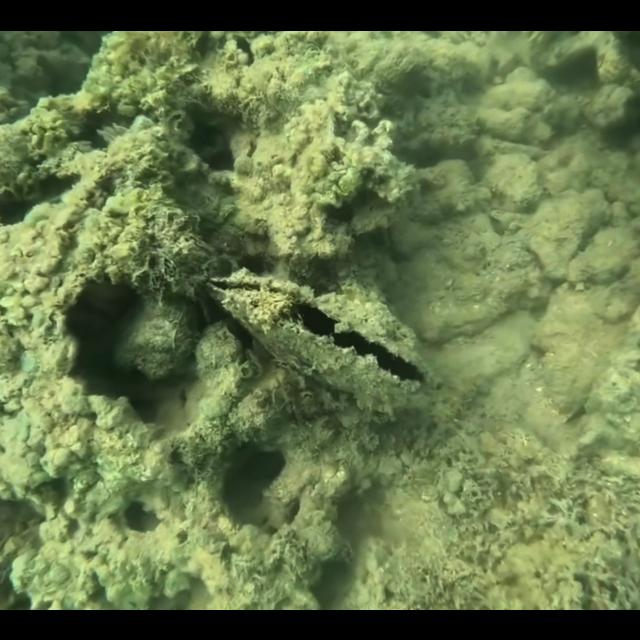Oyster-Open: (204, 266, 432, 414)
